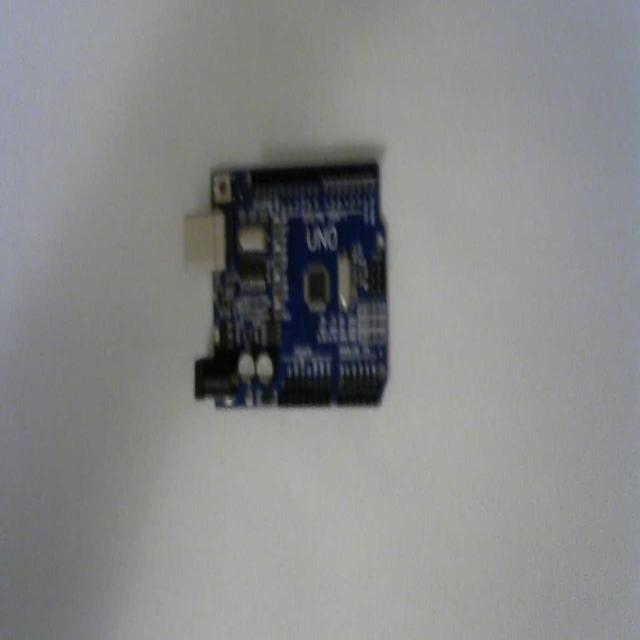arduino: (179, 153, 397, 408)
